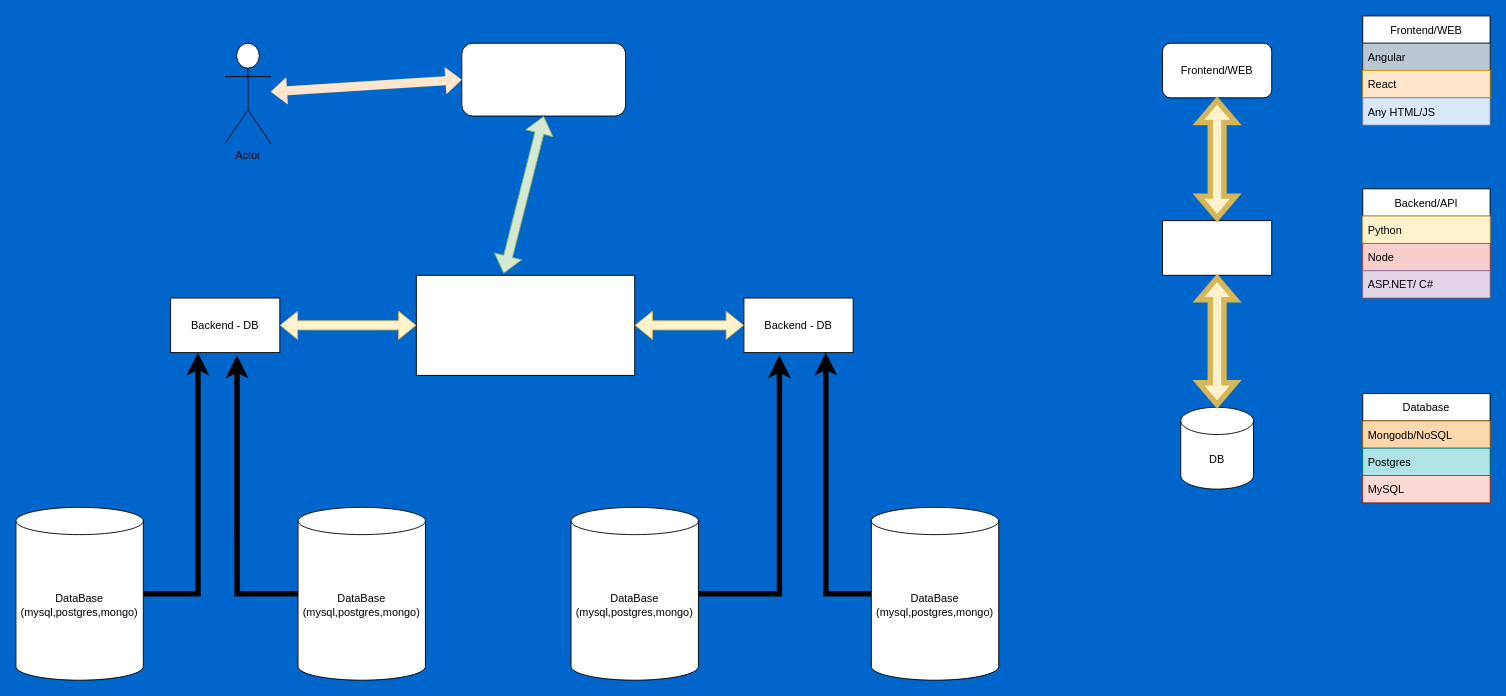
Some shapes in this 1506 by 696 pixel diagram are drawn without their labels. Here are the shapes that lost their labels. From the top down, the centre of each, then its label:
point (543, 79): FrontEnd
point (1217, 247): API
point (525, 324): Back-End API
